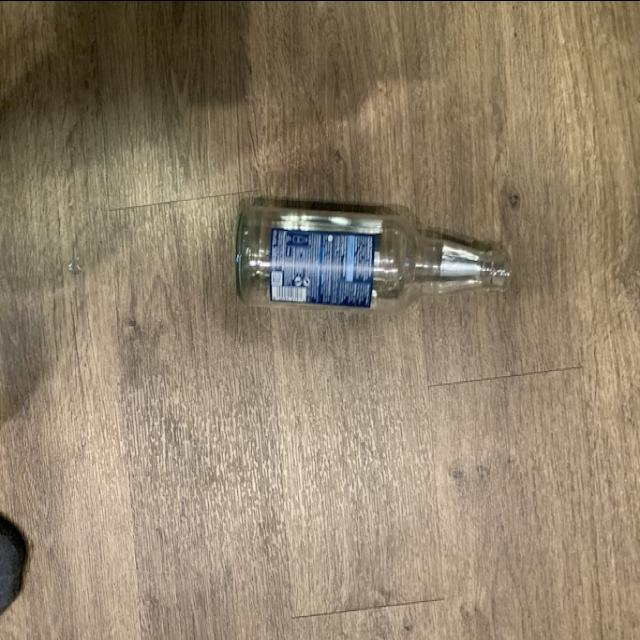Glass Bottle: (234, 200, 524, 311)
